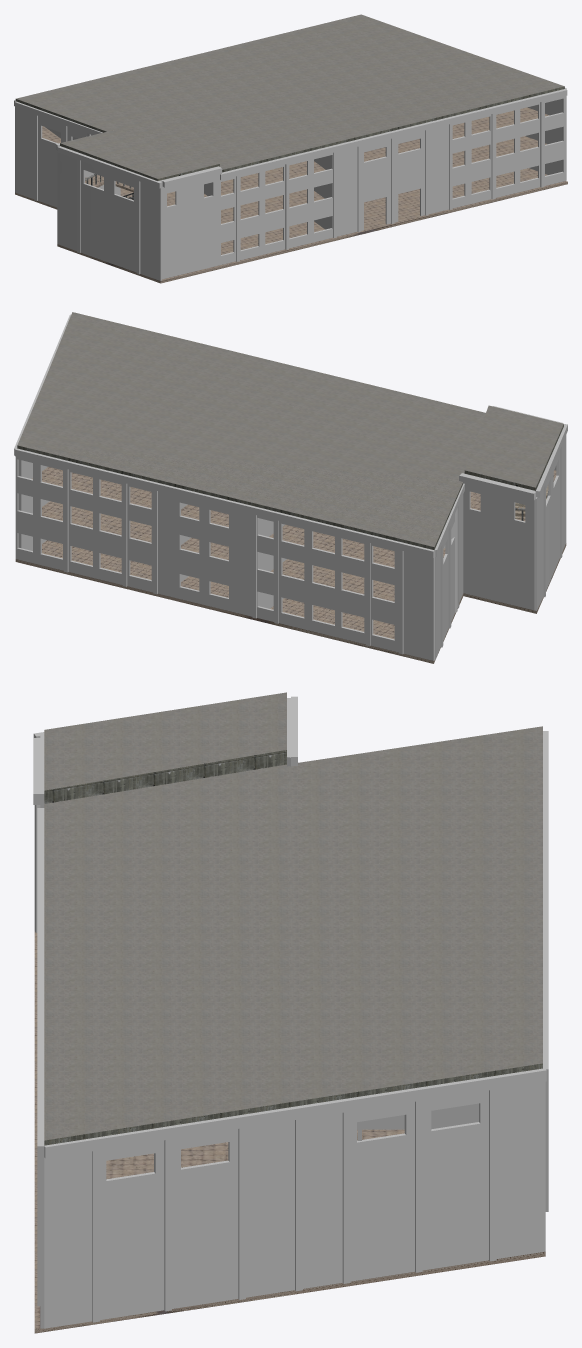
The model's file is SchoolExterior.fbx.
3 renders of one model, top to bottom at view 1: azimuth 30°, elevation 25°; view 2: azimuth 150°, elevation 25°; view 3: azimuth 270°, elevation 25°, orthographic. The views are drawn at different scales.
Visible parts, largest first — view 1: SchoolExteriorLightingTest; view 2: SchoolExteriorLightingTest; view 3: SchoolExteriorLightingTest.
Part boxes in pixels (box(x1,y1,x2,y2)): SchoolExteriorLightingTest: box(14, 14, 567, 283); SchoolExteriorLightingTest: box(14, 312, 567, 663); SchoolExteriorLightingTest: box(33, 692, 548, 1333).
Size of the model in its own units: 2541 by 559 by 1263.
